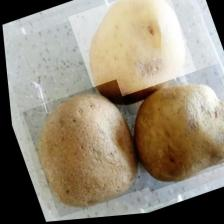Potato: (18, 79, 151, 220), (66, 0, 200, 118), (113, 65, 224, 196)
